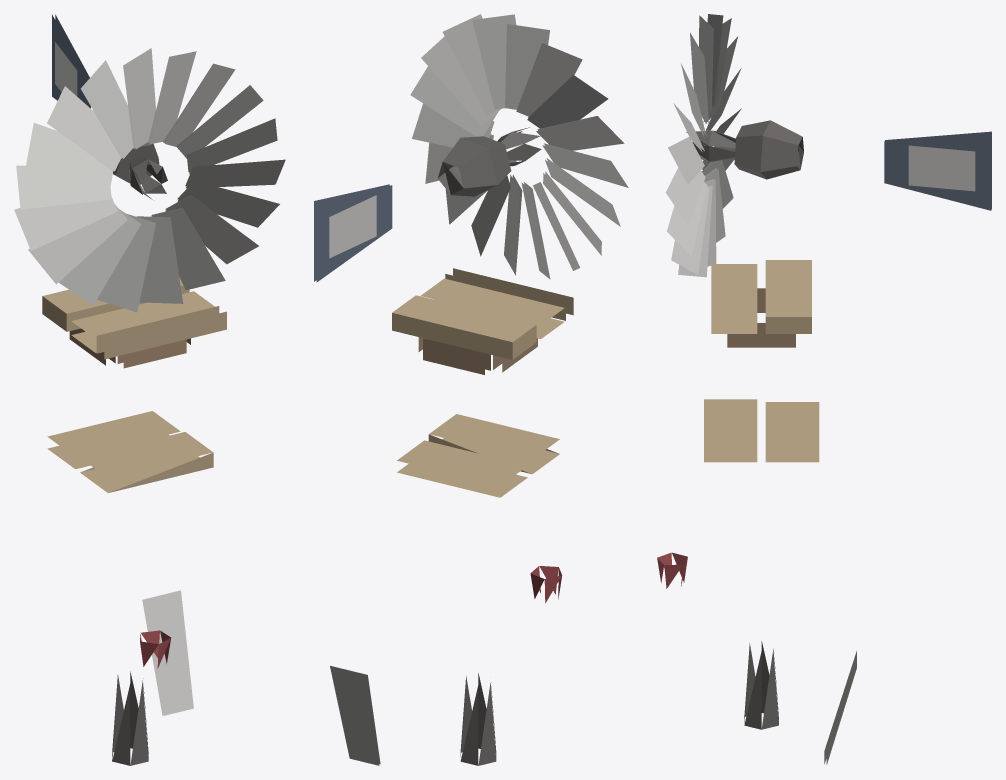
The model's file is stall_2.lod.glb.
3 views of the same model, side by side, from view 1: azimuth 30°, elevation 25°; view 2: azimuth 150°, elevation 25°; view 3: azimuth 270°, elevation 25° (orthographic). The views are drawn at different scales.
Parts seen in each view (by area): view 1: stall_2; view 2: stall_2; view 3: stall_2.
Part boxes in pixels (left/top/right/bottom): stall_2: left=14, top=14, right=285, bottom=765; stall_2: left=314, top=14, right=628, bottom=765; stall_2: left=657, top=14, right=991, bottom=764.
Size of the model in its own units: 2.75 by 7.99 by 3.51.
